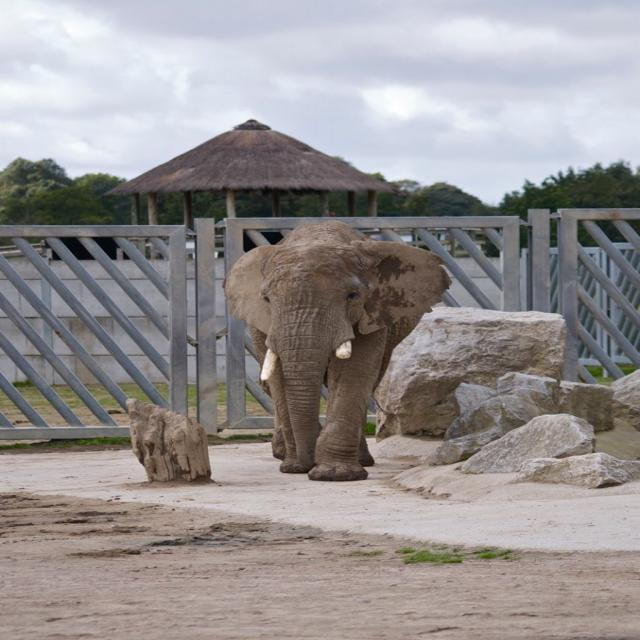Elephant: (221, 220, 458, 485)
